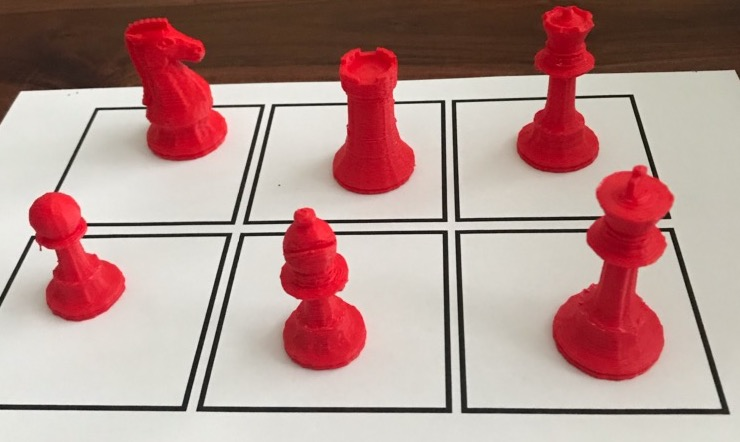Red Bishop: (256, 202, 382, 377)
Red King: (541, 161, 686, 394)
Red Knight: (110, 14, 236, 163)
Red Pawn: (19, 184, 128, 326)
Red Queen: (510, 3, 609, 177)
